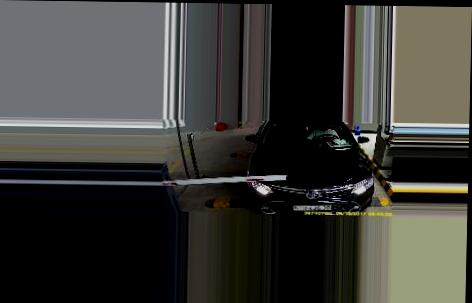License_Plate: (291, 201, 332, 211)
